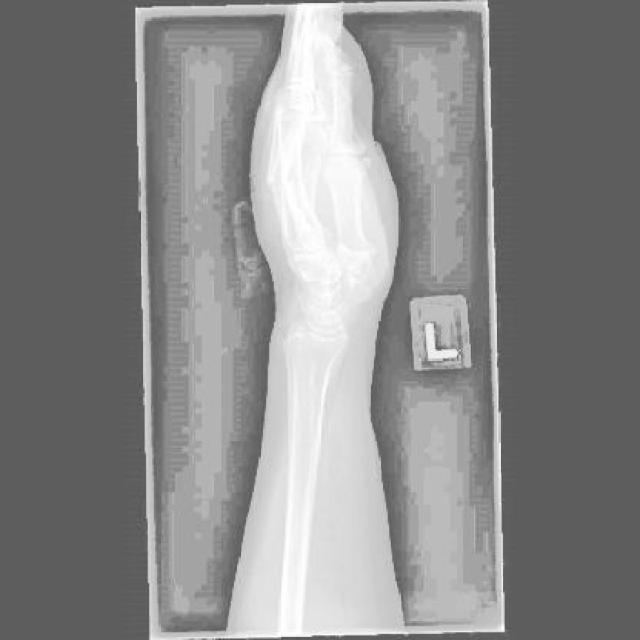Fracture: (260, 170, 288, 196), (279, 163, 302, 188), (300, 156, 320, 179)
